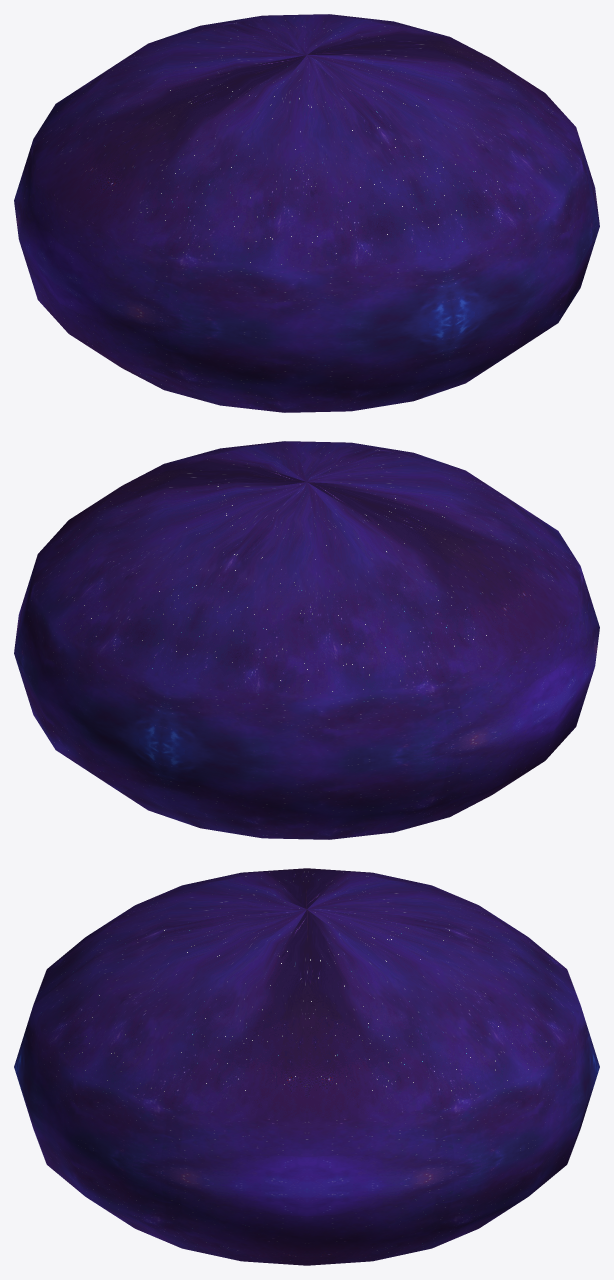
Rendered from Scene_fuwen.fbx.
3 renders of one model, top to bottom at view 1: azimuth 30°, elevation 25°; view 2: azimuth 150°, elevation 25°; view 3: azimuth 270°, elevation 25°, orthographic.
Visible parts, largest first — view 1: Scene_zhucheng_d1; view 2: Scene_zhucheng_d1; view 3: Scene_zhucheng_d1.
Part boxes in pixels (bbox=[...]): Scene_zhucheng_d1: bbox=[14, 14, 599, 412]; Scene_zhucheng_d1: bbox=[14, 441, 599, 839]; Scene_zhucheng_d1: bbox=[14, 868, 599, 1265].
Size of the model in its own units: 12220 by 7250 by 12220.
